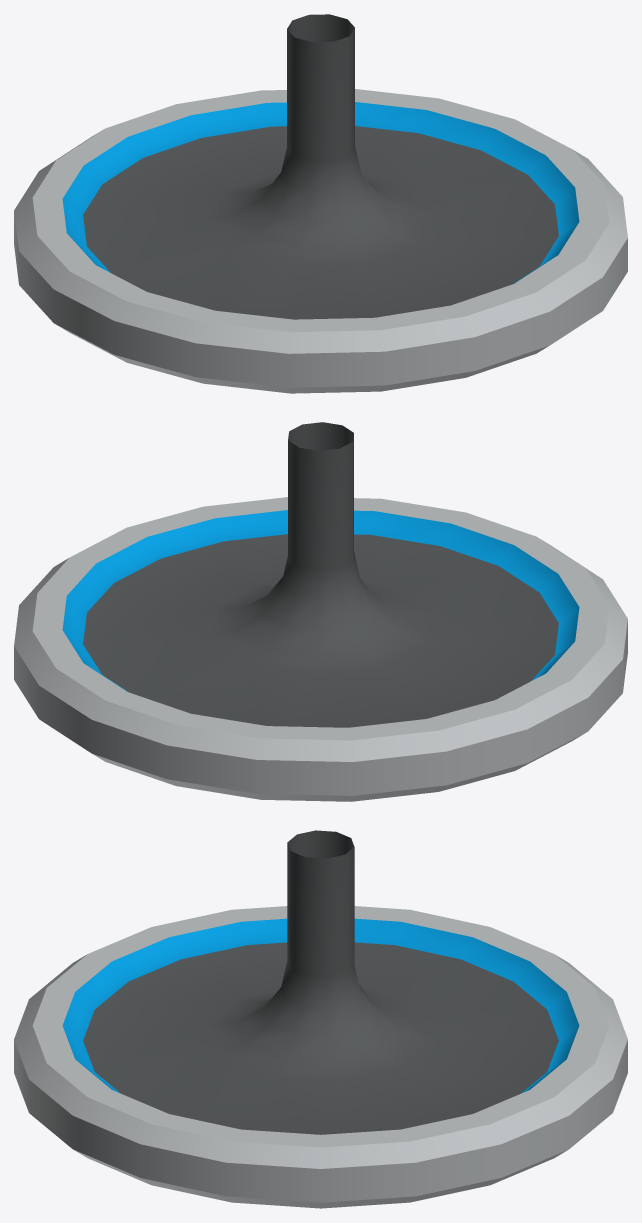
The model's file is Armchair_005.fbx.
3 renders of one model, top to bottom at view 1: azimuth 30°, elevation 25°; view 2: azimuth 150°, elevation 25°; view 3: azimuth 270°, elevation 25°, orthographic.
Parts seen in each view (by area): view 1: Armchair_005; view 2: Armchair_005; view 3: Armchair_005.
Boxes of the visible parts, x1,y1,x2,y2 form: Armchair_005: (14, 14, 627, 393); Armchair_005: (14, 422, 627, 801); Armchair_005: (14, 830, 627, 1208).
Size of the model in its own units: 70.59 by 70.59 by 30.71.
